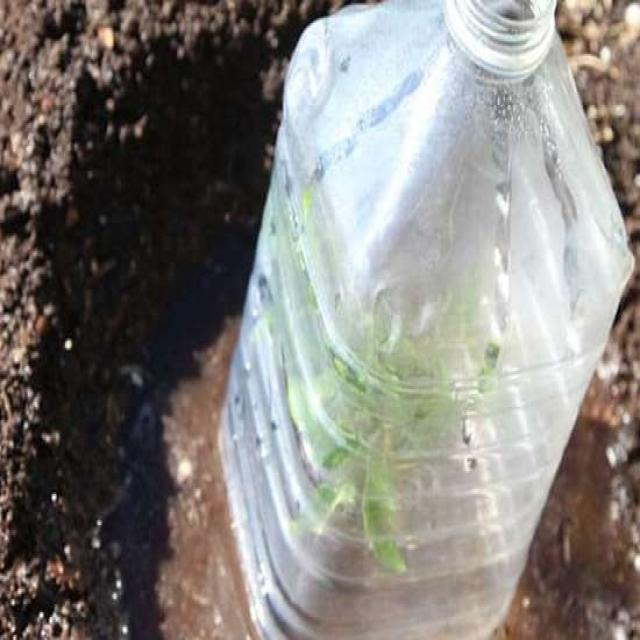plastic_bottle: (216, 0, 636, 640)
